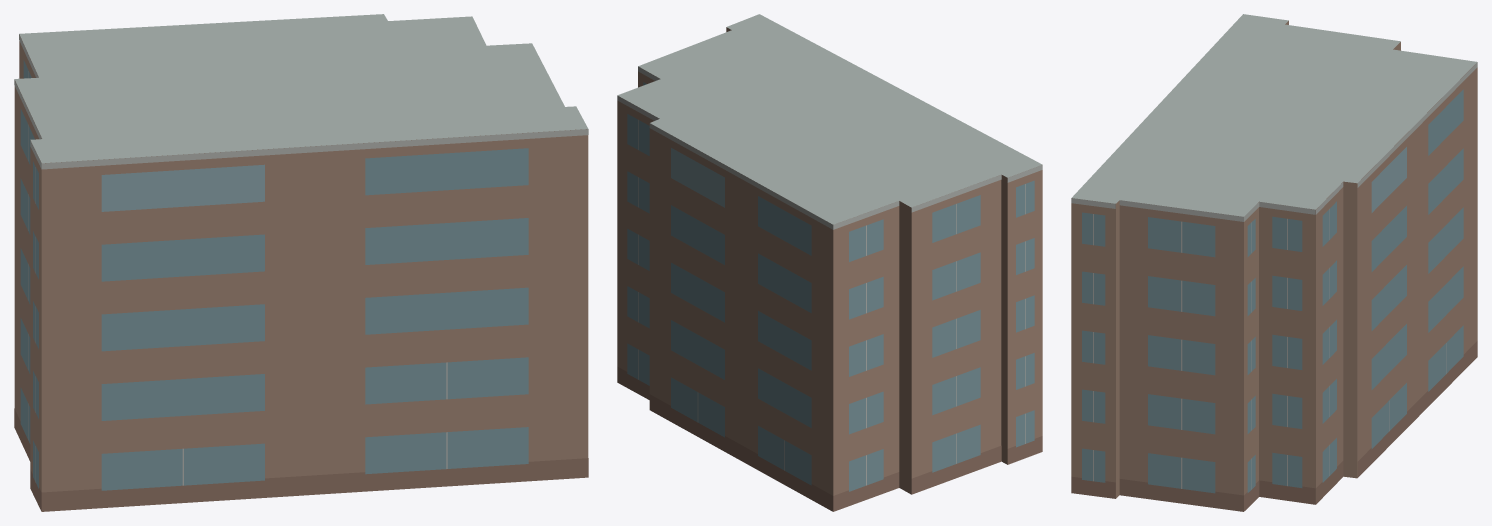
The model's file is survey-upis-32993052.glb.
3 views of the same model, side by side, from view 1: azimuth 30°, elevation 25°; view 2: azimuth 150°, elevation 25°; view 3: azimuth 270°, elevation 25° (orthographic). The views are drawn at different scales.
Parts seen in each view (by area): view 1: survey-upis-32993052.tmp; view 2: survey-upis-32993052.tmp; view 3: survey-upis-32993052.tmp.
Part boxes in pixels (bbox=[...]): survey-upis-32993052.tmp: bbox=[14, 14, 588, 511]; survey-upis-32993052.tmp: bbox=[617, 14, 1042, 511]; survey-upis-32993052.tmp: bbox=[1071, 14, 1477, 511].
Bounding box in the file's own units: 20.35 × 13.8 × 17.22.
